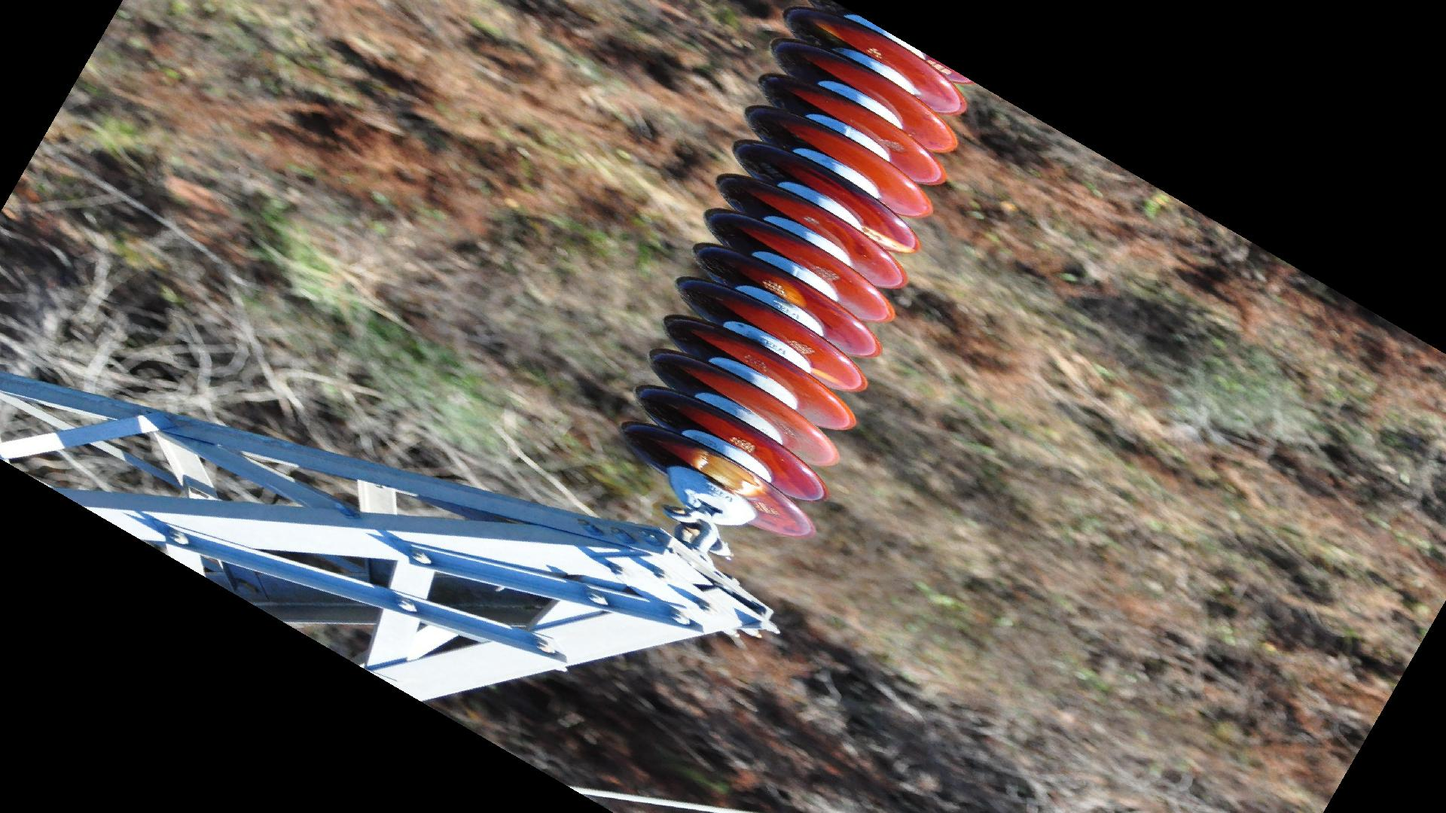insulator: (614, 4, 977, 545)
insulator_flashover: (694, 446, 762, 497), (758, 269, 807, 309), (859, 222, 916, 255), (808, 365, 846, 386)
